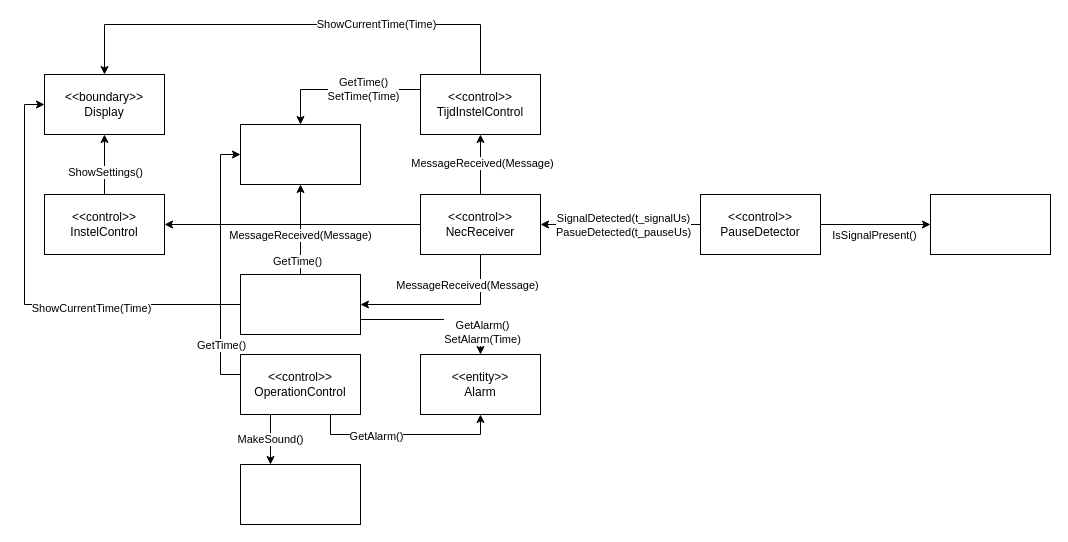
The diagram is 1068 pixels wide and 542 high, and some of its shapes have lost their labels. Here are the shapes that lost their labels. From the top down, the centre of each, then its label:
pixel 300 154: <<entity>> Time
pixel 990 224: <<boundary>> IR-Receiver
pixel 300 304: <<control>> AlarmInstelControl
pixel 300 494: <<boundary>> Buzzer
